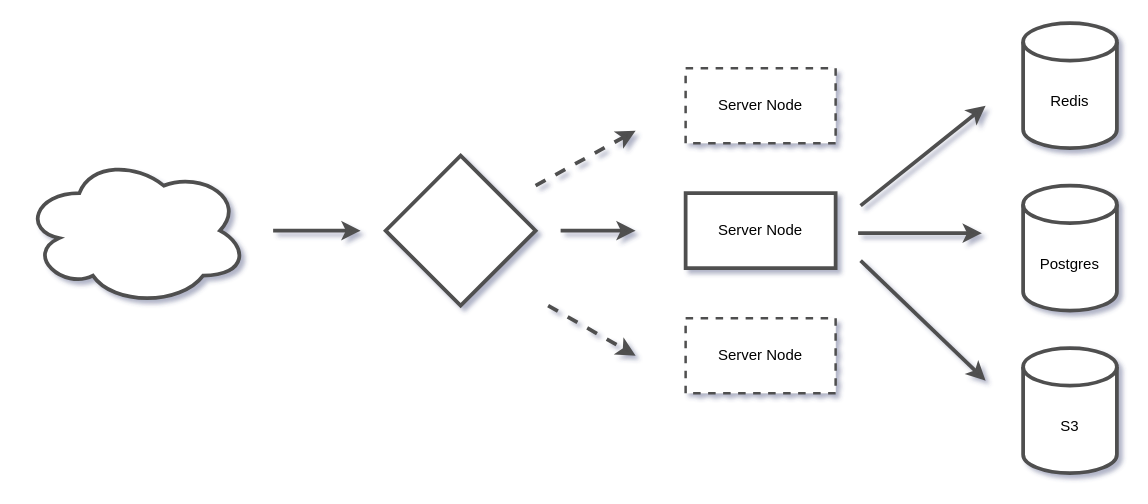
The diagram is 1148 pixels wide and 504 high, and some of its shapes have lost their labels. Each missing label, with the centre of its shape:
"Load Balancer" goes at (x=460, y=230).
"Web / App / SDK" goes at (x=135, y=230).
